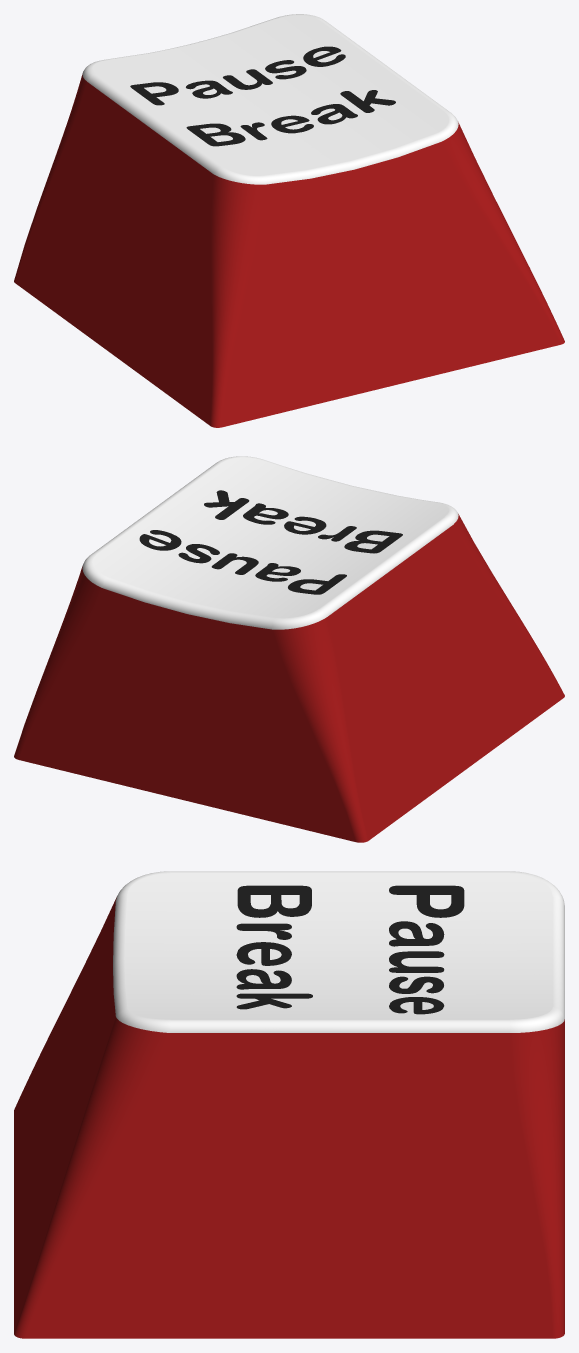
Rendered from Pause Break.fbx.
3 views of the same model, one above another, from view 1: azimuth 30°, elevation 25°; view 2: azimuth 150°, elevation 25°; view 3: azimuth 270°, elevation 25° (orthographic). The views are drawn at different scales.
Parts seen in each view (by area): view 1: Body1; view 2: Body1; view 3: Body1.
Part boxes in pixels (x1,y1,x2,y2): Body1: (14, 14, 564, 427); Body1: (14, 456, 564, 842); Body1: (14, 871, 564, 1338).
Bounding box in the file's own units: 18 × 9.95 × 18.
